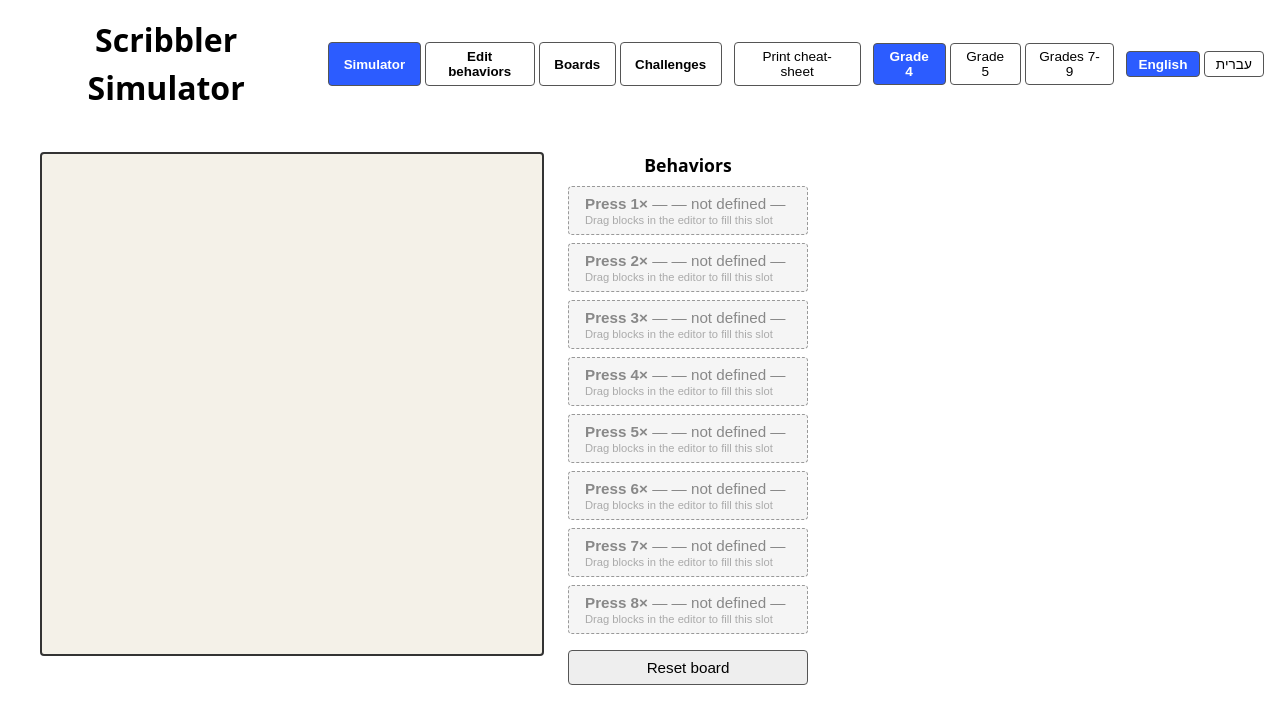
it: grade selector: end-to-end › switching to grades 7-9 hides the 🎲 button and offers the track boards
Click the button "Grades 7-9": click(1070, 64) [1025, 43, 1114, 85]
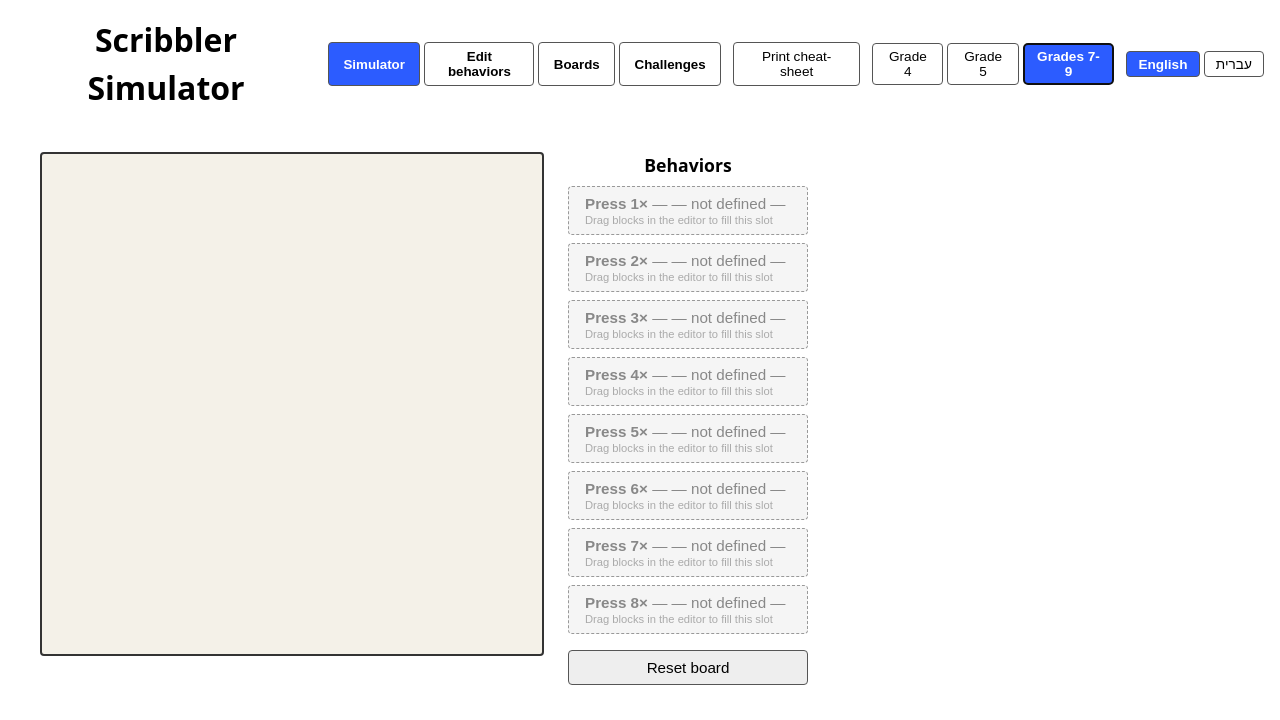
Click the tab "Boards": click(577, 64) [538, 42, 615, 86]
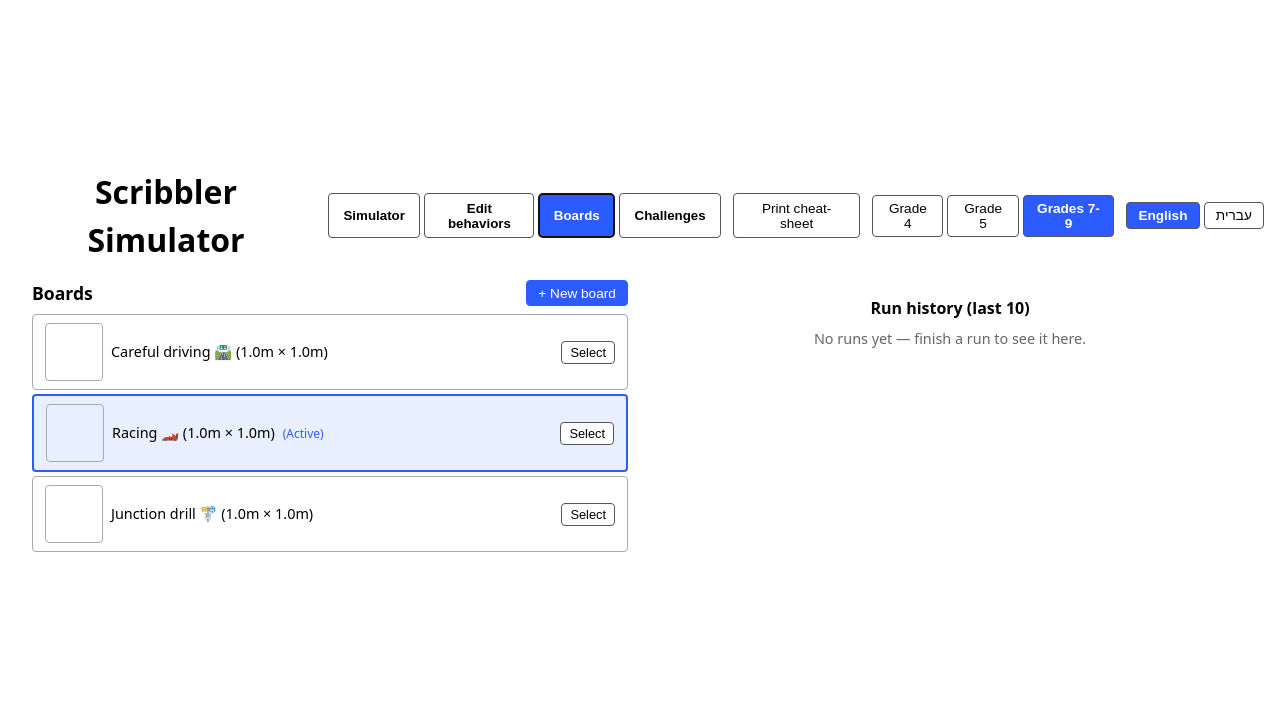
Result: the text "Careful driving 🛣️ (1.0m × 1.0m)" is shown at [111, 342, 328, 363]
Result: the text "Racing 🏎️ (1.0m × 1.0m)(Active)" is shown at [112, 422, 324, 444]
